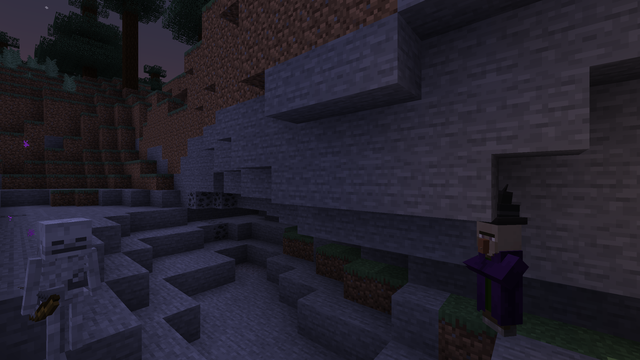sorcieres: (476, 216, 521, 343)
squelettes: (34, 217, 94, 357)
